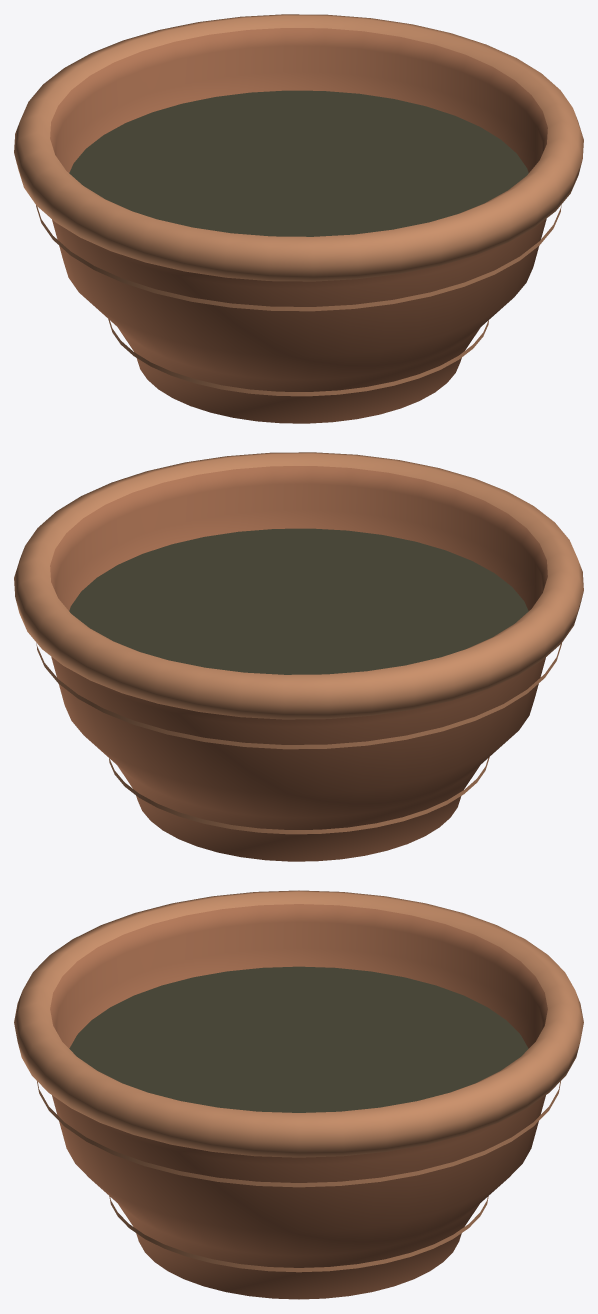
File: clay_pot_3.glb
3 views of the same model, one above another, from view 1: azimuth 30°, elevation 25°; view 2: azimuth 150°, elevation 25°; view 3: azimuth 270°, elevation 25° (orthographic).
Parts seen in each view (by area): view 1: clay_pot_3; view 2: clay_pot_3; view 3: clay_pot_3.
Part boxes in pixels (x1=…): clay_pot_3: x1=14, y1=14, x2=583, y2=423; clay_pot_3: x1=14, y1=452, x2=583, y2=861; clay_pot_3: x1=14, y1=890, x2=583, y2=1299.
Bounding box in the file's own units: 1.09 × 0.482 × 1.09.
